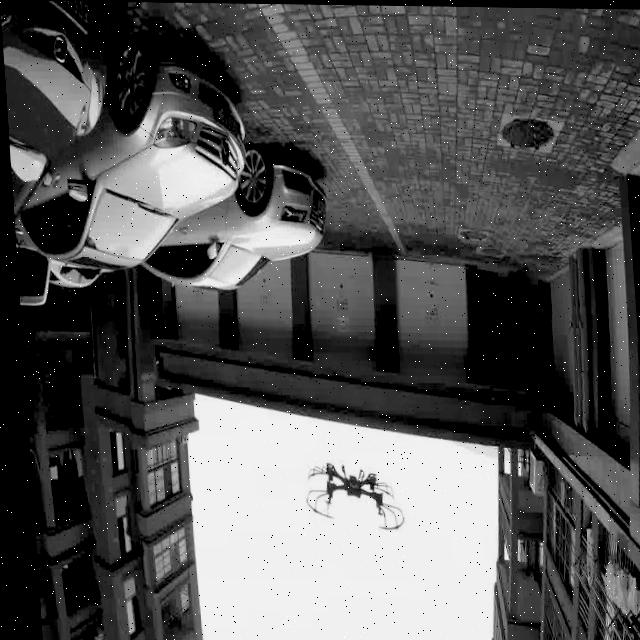drone: (273, 450, 407, 553)
